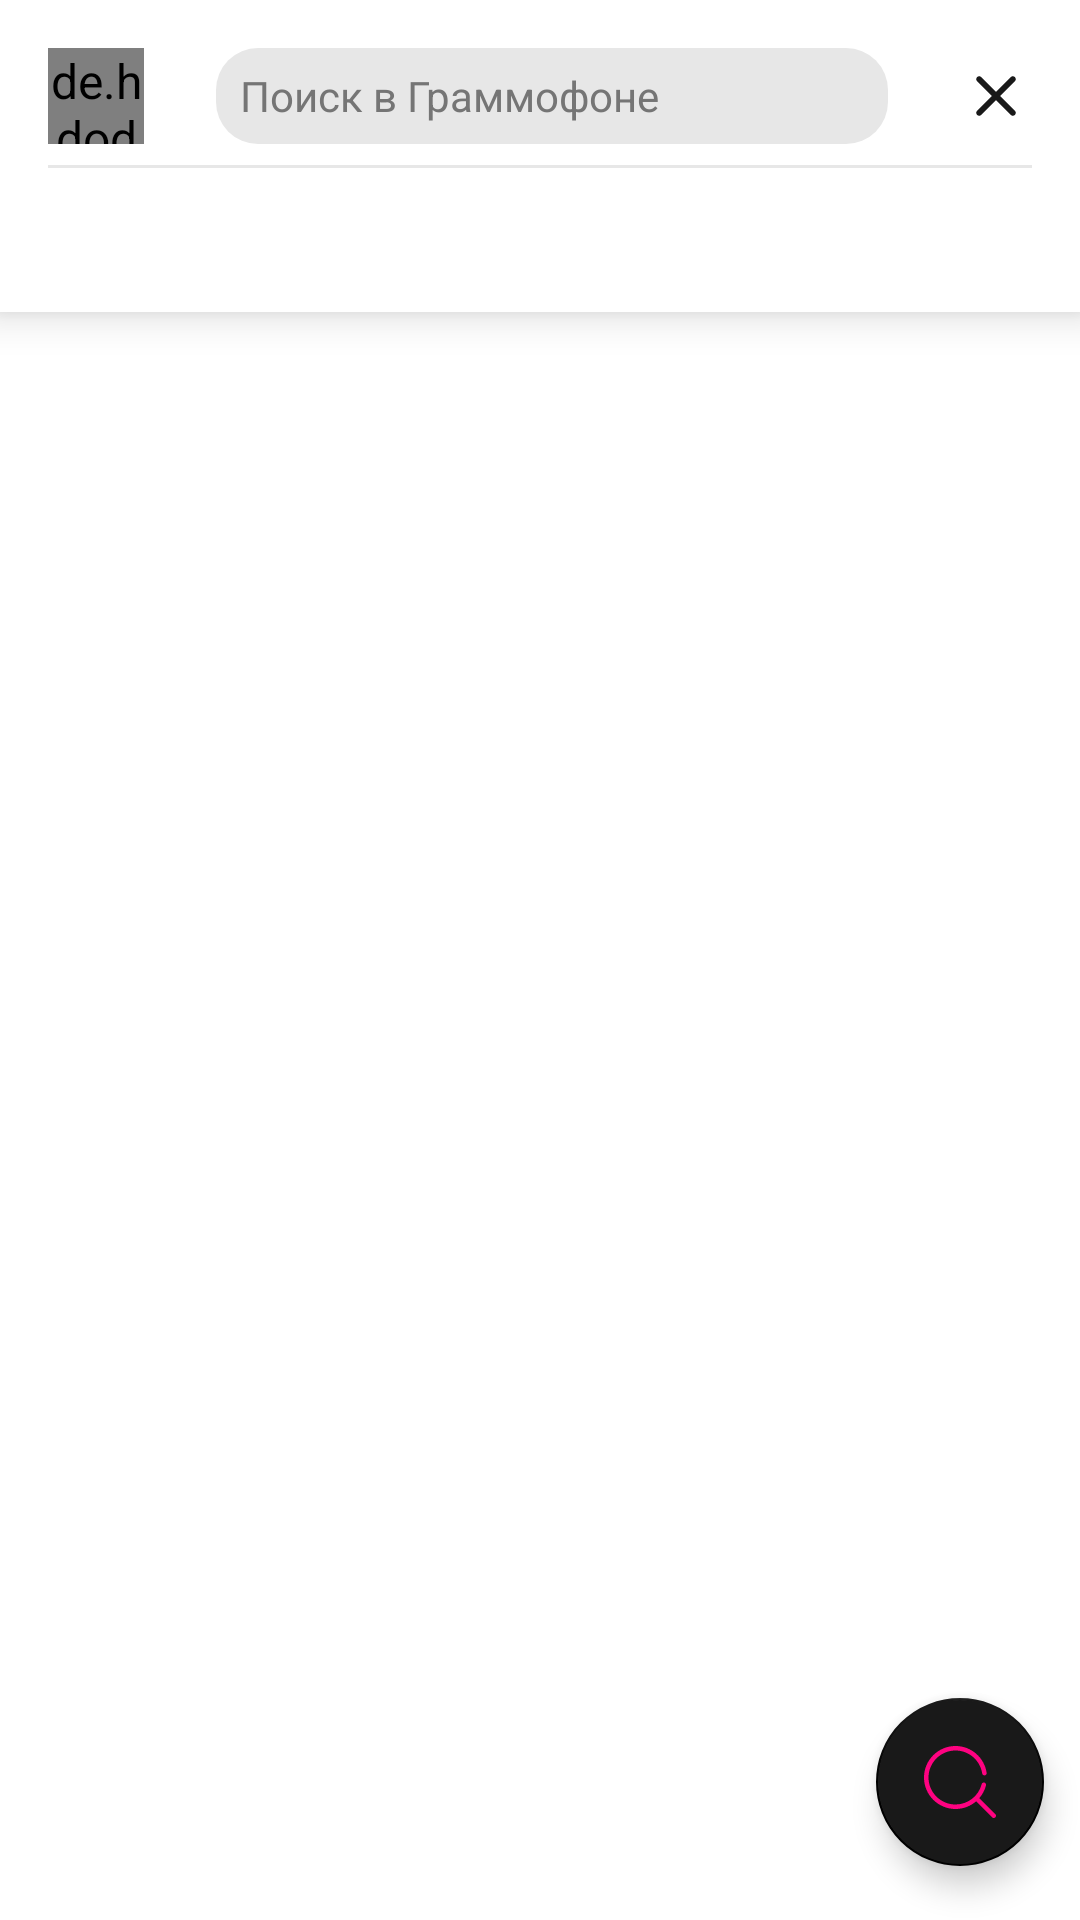

Icons on this 1080*1920 Android screen, each with its box as {"x1": x1, "y1": y1, "x2": x2, "y2": y2}:
cross: {"x1": 976, "y1": 76, "x2": 1016, "y2": 116}
search: {"x1": 876, "y1": 1698, "x2": 1047, "y2": 1884}
